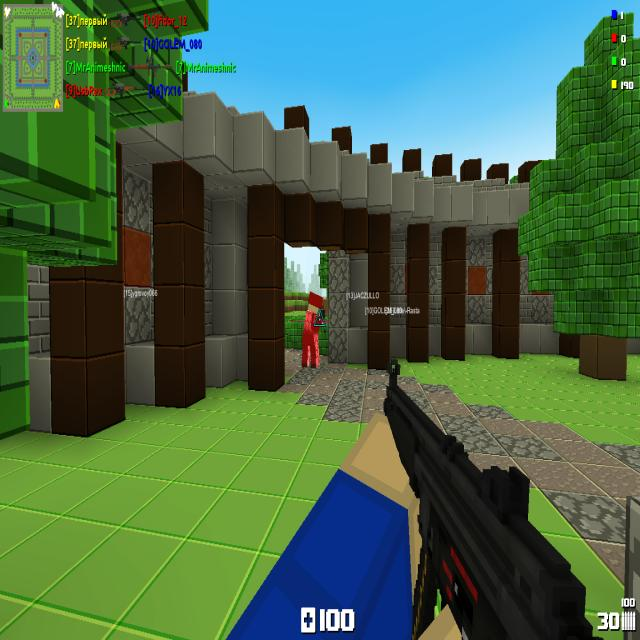enemy: (302, 291, 324, 368)
